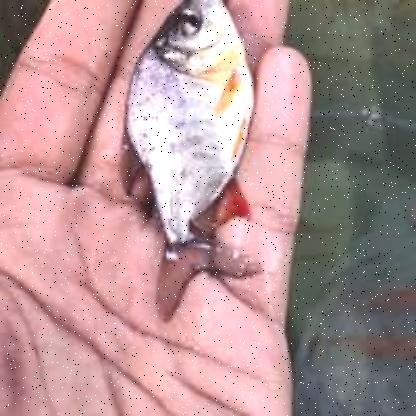ikan-pacu: (127, 0, 258, 278)
